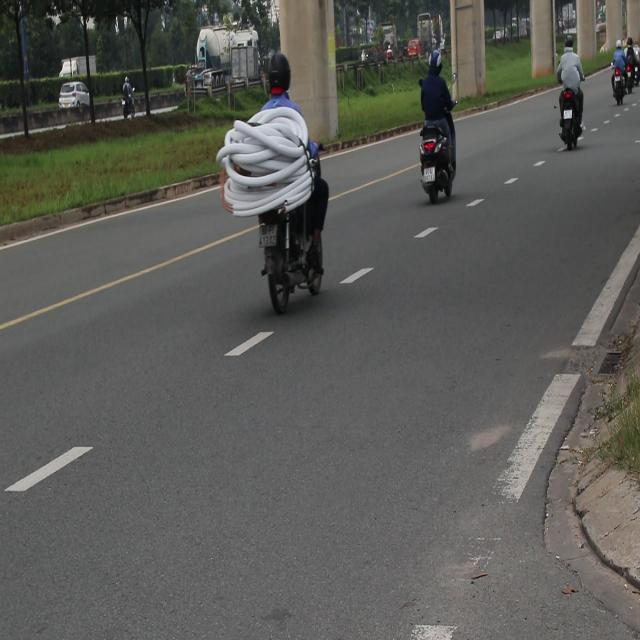car: (59, 82, 92, 110)
motorbike: (252, 183, 337, 306), (418, 122, 456, 204), (551, 85, 586, 151), (608, 66, 628, 111), (623, 60, 634, 101)
truck: (240, 37, 276, 93), (118, 73, 143, 127)
